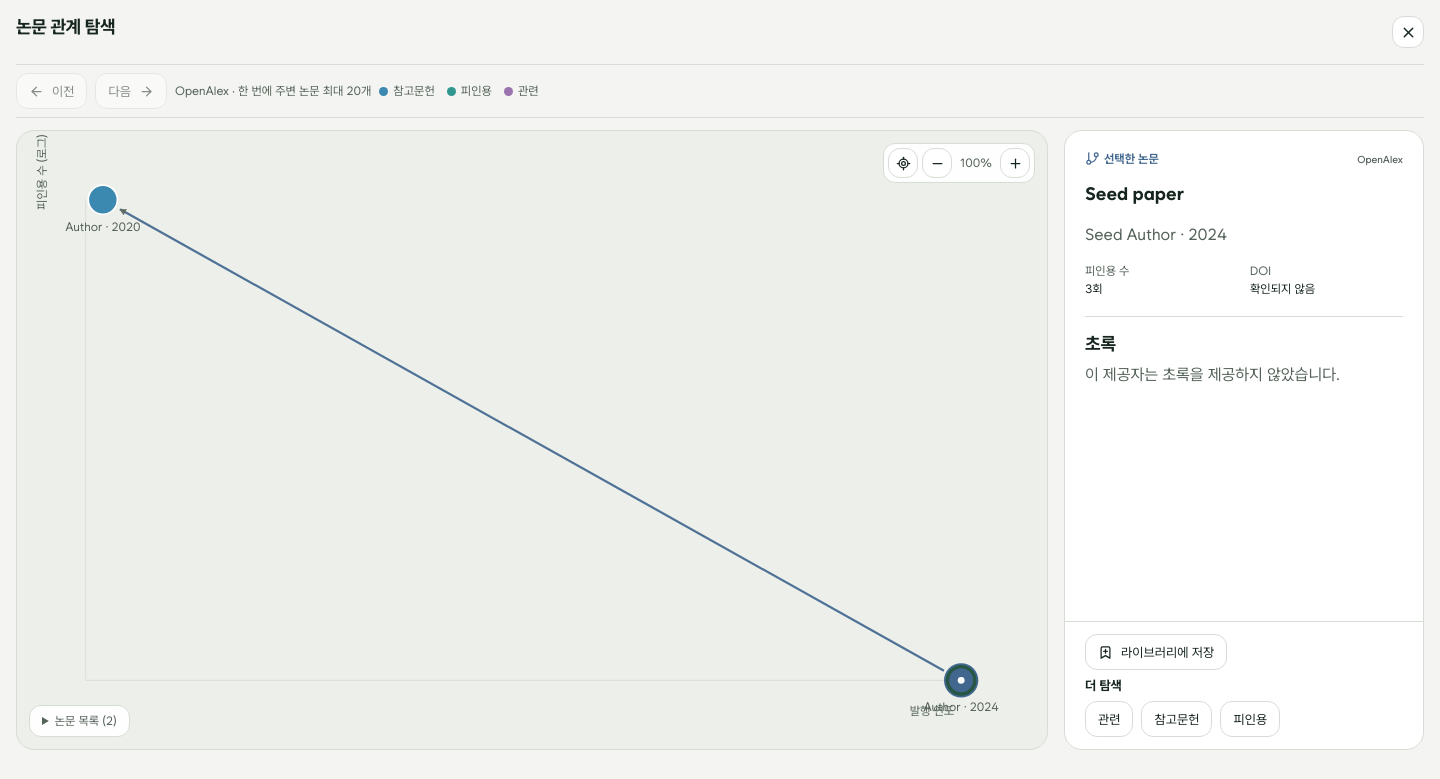
Test case: ScholarlyGraphView › cancels an expansion when hidden and ignores its late result after returning
The width and height of the screenshot is (1440, 779).
Check: the element named "선택한 논문 상세" is shown, box [1064,130,1424,750]
Click the button "참고문헌" at (1177, 719), box [1142,701,1212,737]
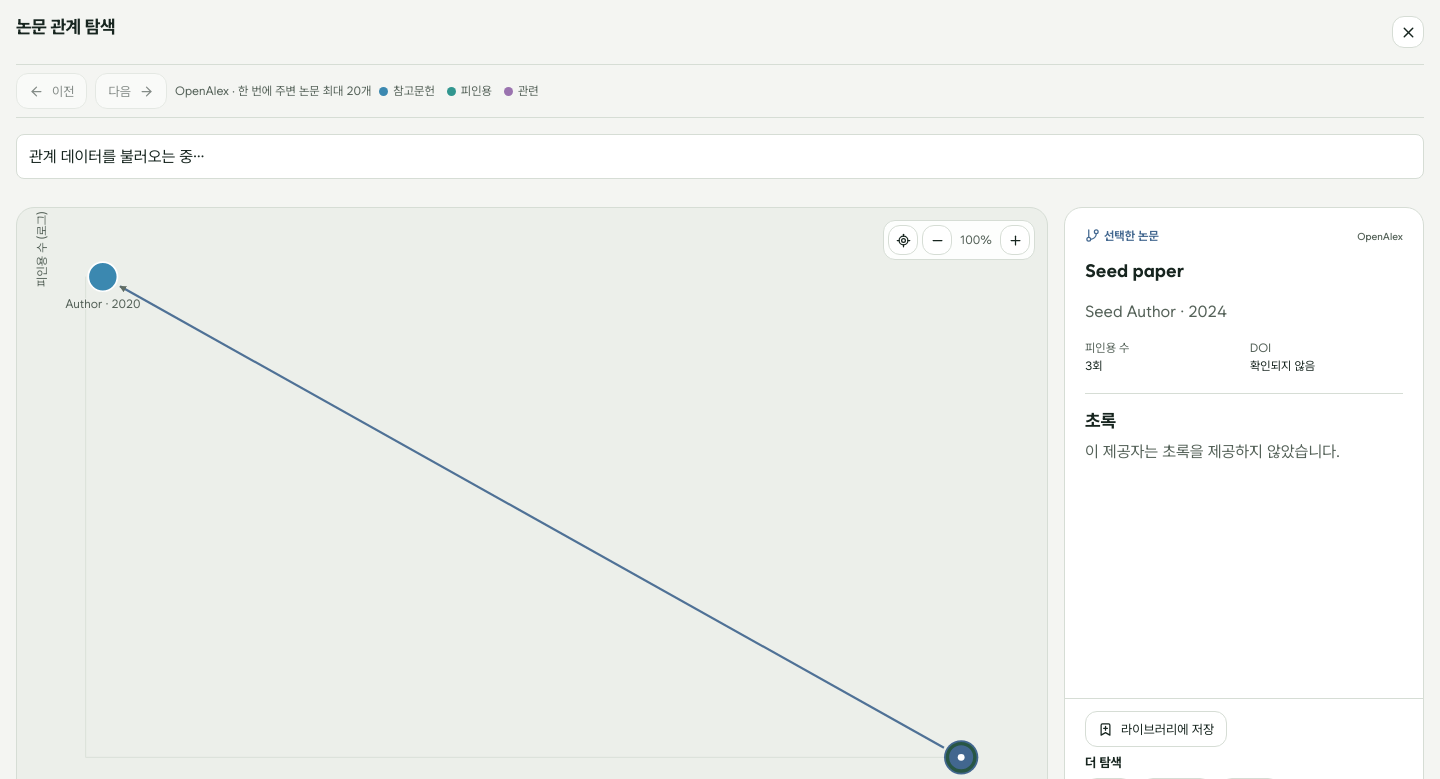
Check: the text "관계 데이터를 불러오는 중…" is shown, box [16,134,1424,179]
